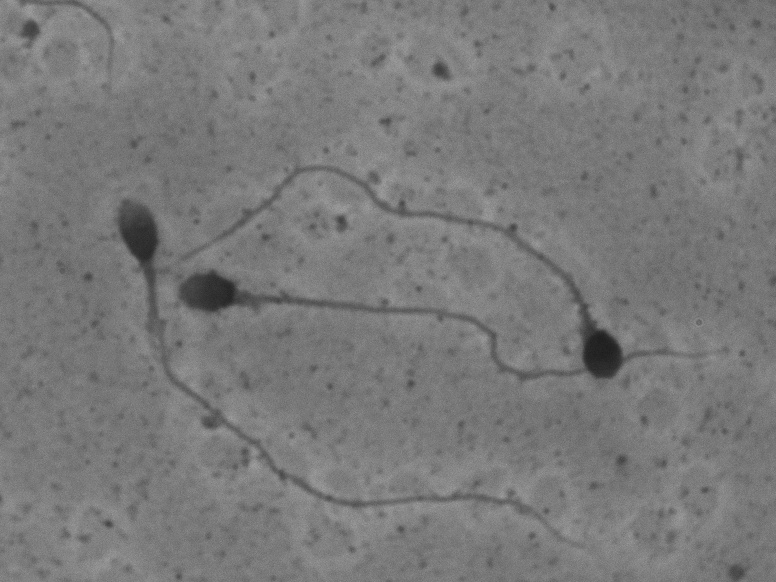Abnormal: (179, 152, 640, 397)
Normal: (105, 191, 594, 558), (167, 261, 731, 394)
